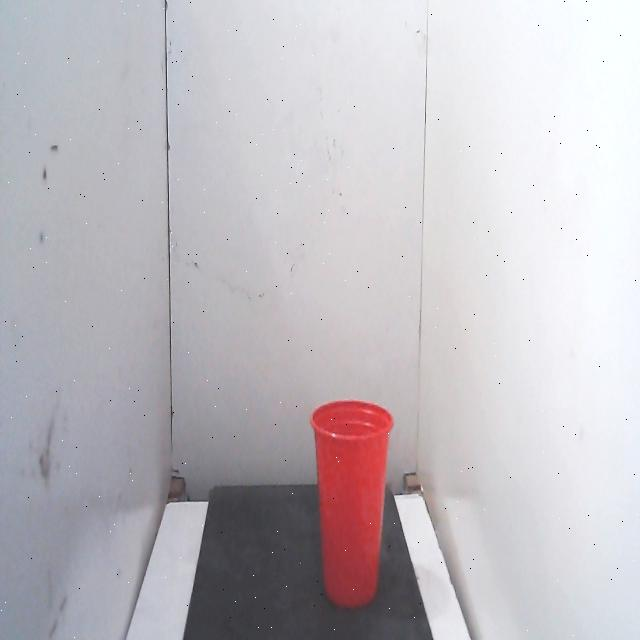plastico: (304, 378, 401, 622)
